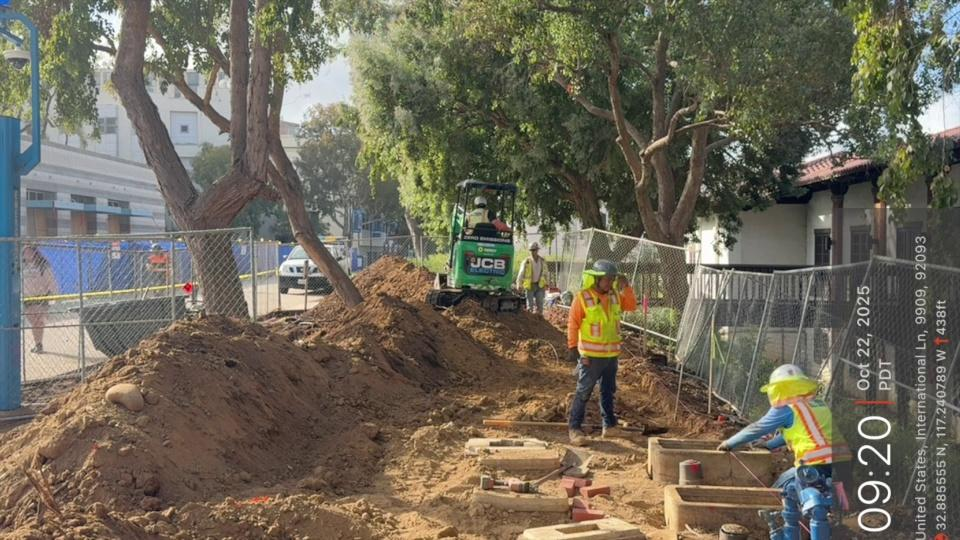Exacavator: (425, 177, 525, 316)
